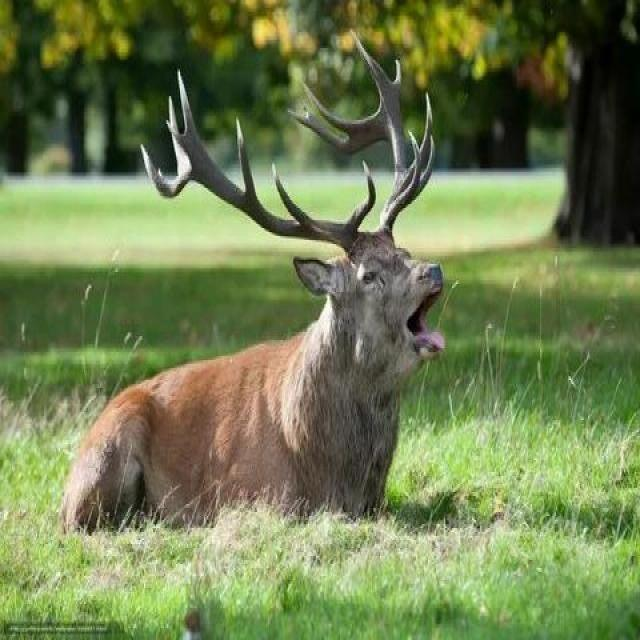deer: (164, 140, 511, 535)
